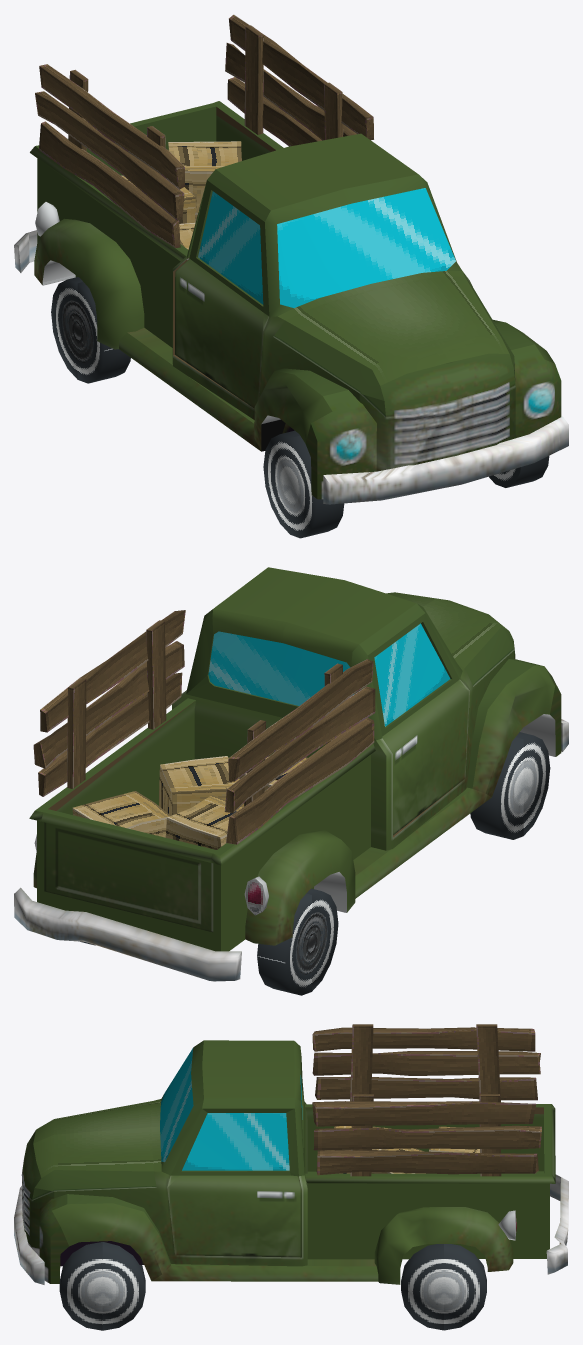
The model's file is cletus.fbx.
The picture shows the model from 3 angles, top to bottom: view 1: azimuth 30°, elevation 25°; view 2: azimuth 150°, elevation 25°; view 3: azimuth 270°, elevation 25°; orthographic projection. The views are drawn at different scales.
Visible parts, largest first — view 1: CletusPickupTruck:Mesh; view 2: CletusPickupTruck:Mesh; view 3: CletusPickupTruck:Mesh.
Boxes of the visible parts, box(x1,y1,x2,y2) form: CletusPickupTruck:Mesh: box(14, 14, 568, 538); CletusPickupTruck:Mesh: box(14, 567, 568, 995); CletusPickupTruck:Mesh: box(14, 1024, 568, 1330).
Size of the model in its own units: 85.63 by 90.66 by 203.
10 materials, 10 textured.
